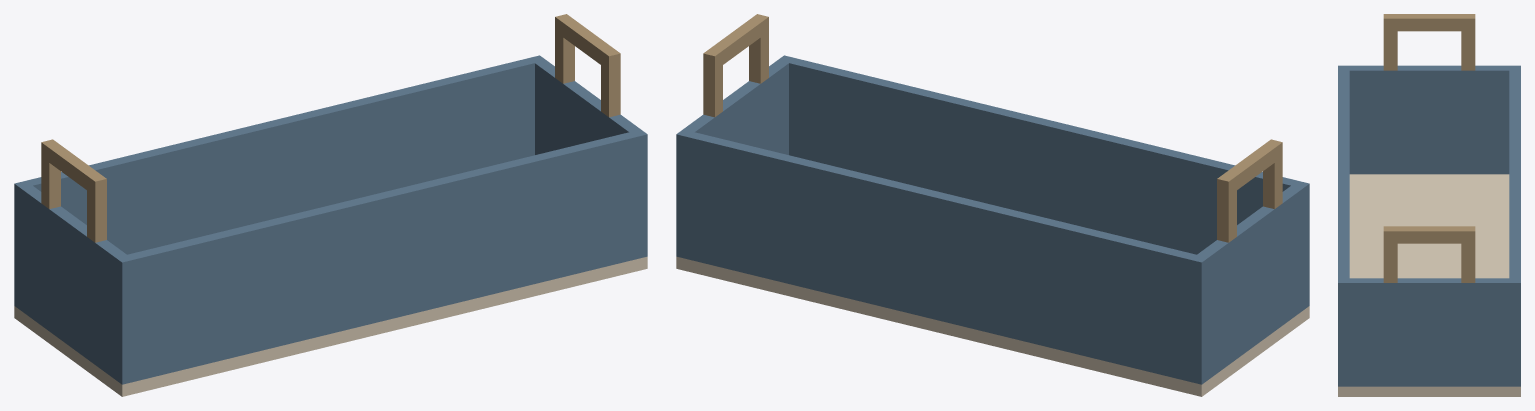
3 views of the same model, side by side, from view 1: azimuth 30°, elevation 25°; view 2: azimuth 150°, elevation 25°; view 3: azimuth 270°, elevation 25° (orthographic). The views are drawn at different scales.
Parts seen in each view (by area): view 1: storage-upper-front, storage-upper-back, storage-upper-left, storage-roof, storage-upper-right, storage-case-handle-left-front, storage-case-handle-right-front, storage-case-handle-right-rear, storage-case-handle-left-rear, storage-case-handle-left-grip, storage-case-handle-right-grip; view 2: storage-upper-back, storage-upper-front, storage-upper-left, storage-roof, storage-upper-right, storage-case-handle-left-rear, storage-case-handle-right-rear, storage-case-handle-right-front, storage-case-handle-left-front, storage-case-handle-left-grip, storage-case-handle-right-grip; view 3: storage-upper-right, storage-upper-left, storage-roof, storage-upper-back, storage-upper-front, storage-case-handle-right-grip, storage-case-handle-left-grip, storage-case-handle-left-rear, storage-case-handle-left-front, storage-case-handle-right-rear, storage-case-handle-right-front.
Boxes of the visible parts, x1,y1,x2,y2 form: storage-upper-front: [127, 132, 635, 381]; storage-upper-back: [26, 58, 534, 254]; storage-upper-left: [14, 181, 133, 384]; storage-roof: [14, 256, 647, 396]; storage-upper-right: [528, 55, 647, 259]; storage-case-handle-left-front: [87, 173, 106, 242]; storage-case-handle-right-front: [601, 47, 620, 117]; storage-case-handle-right-rear: [555, 14, 574, 83]; storage-case-handle-left-rear: [41, 139, 60, 208]; storage-case-handle-left-grip: [49, 145, 98, 189]; storage-case-handle-right-grip: [563, 20, 612, 64]; storage-upper-back: [688, 132, 1196, 381]; storage-upper-front: [789, 58, 1297, 254]; storage-upper-left: [1190, 181, 1309, 384]; storage-roof: [676, 256, 1309, 396]; storage-upper-right: [676, 55, 795, 259]; storage-case-handle-left-rear: [1217, 173, 1236, 242]; storage-case-handle-right-rear: [703, 47, 722, 117]; storage-case-handle-right-front: [749, 14, 768, 83]; storage-case-handle-left-front: [1263, 139, 1282, 208]; storage-case-handle-left-grip: [1225, 145, 1274, 189]; storage-case-handle-right-grip: [711, 20, 760, 64]; storage-upper-right: [1338, 278, 1520, 386]; storage-upper-left: [1338, 65, 1520, 174]; storage-roof: [1338, 174, 1520, 396]; storage-upper-back: [1509, 70, 1520, 278]; storage-upper-front: [1338, 70, 1349, 278]; storage-case-handle-right-grip: [1397, 226, 1461, 243]; storage-case-handle-left-grip: [1397, 14, 1461, 31]; storage-case-handle-left-rear: [1461, 14, 1475, 70]; storage-case-handle-left-front: [1383, 14, 1397, 70]; storage-case-handle-right-rear: [1461, 226, 1475, 282]; storage-case-handle-right-front: [1383, 226, 1397, 282].
Bounding box in the file's own units: 0.45 × 0.16 × 0.16.
